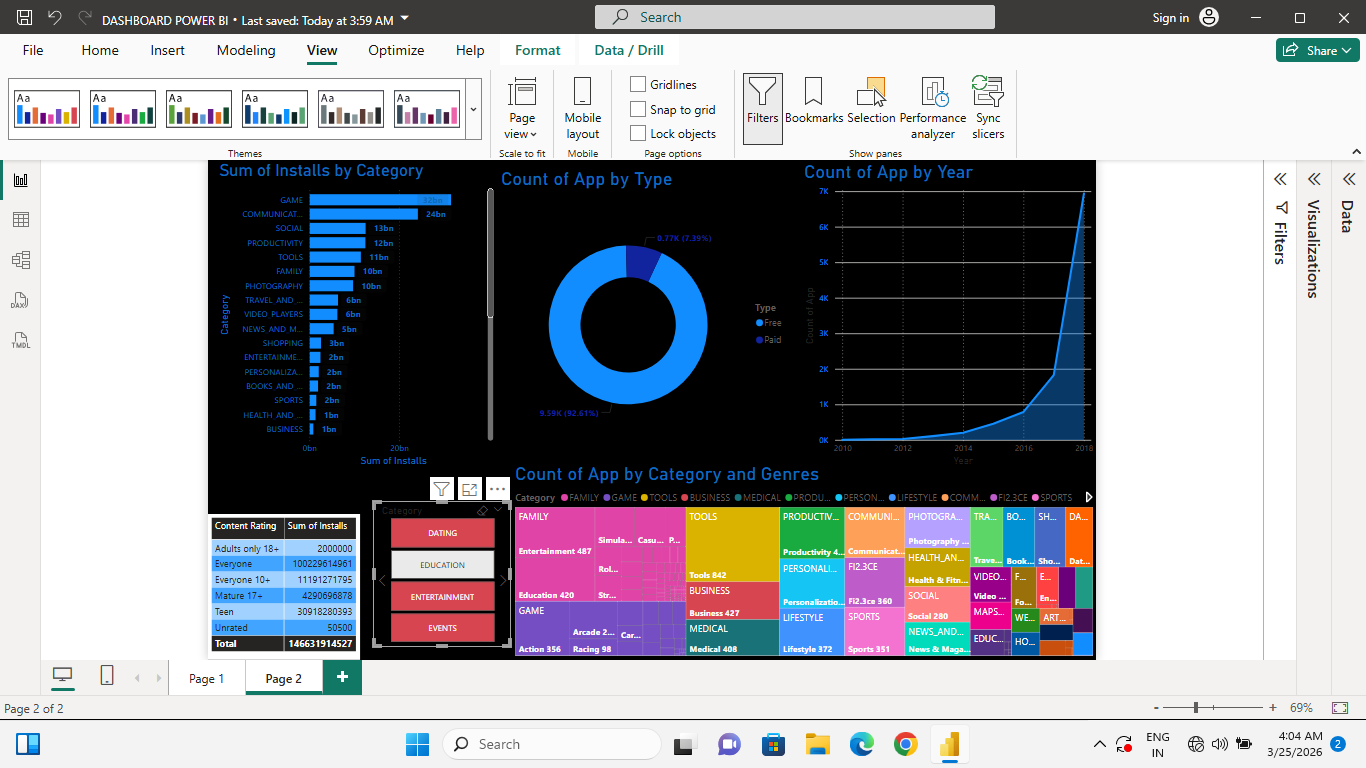

The page's visual inventory and layout, read from the dashboard file:
{"tool":"powerbi","page":{"name":"Page 2","canvas":[1280,720],"ordinal":1},"visuals":[{"type":"clusteredBarChart","fields":{"Category":["Table1.Category"],"Y":["Sum(Table1.Installs)"]},"box":[10.5,0,406.8,447.1],"z":0},{"type":"donutChart","fields":{"Category":["Table1.Type"],"Y":["CountNonNull(Table1.App)"]},"box":[416.2,10.1,427.7,424.8],"z":1000},{"type":"areaChart","fields":{"Category":["Table1.Last Updated.Variation.Date Hierarchy.Year","Table1.Last Updated.Variation.Date Hierarchy.Quarter","Table1.Last Updated.Variation.Date Hierarchy.Month","Table1.Last Updated.Variation.Date Hierarchy.Day"],"Y":["CountNonNull(Table1.App)"]},"box":[852.2,0,427.8,447.1],"z":2000},{"type":"pivotTable","fields":{"Rows":["Table1.Content Rating"],"Values":["Sum(Table1.Installs)"]},"box":[0,509.8,218.9,210.2],"z":3000},{"type":"slicer","fields":{"Values":["Table1.Category"]},"box":[237.6,491,198.7,210.2],"z":4000},{"type":"treemap","fields":{"Group":["Table1.Category"],"Details":["Table1.Genres"],"Values":["CountNonNull(Table1.App)"]},"box":[436.3,434.9,843.8,285.1],"z":5000}]}

Visuals, with their boxes on the page's 1280x720 design canvas (x1, y1, x2, y2). These are canvas units, not pixel positions in the 1366x768 screenshot, which may show the page scaled, cropped or inside an application window:
clusteredBarChart - Table1.Category x Sum(Table1.Installs): pyautogui.locateOnScreen(10, 0, 417, 447)
donutChart - Table1.Type x CountNonNull(Table1.App): pyautogui.locateOnScreen(416, 10, 844, 435)
areaChart - Table1.Last Updated.Variation.Date Hierarchy.Year x Table1.Last Updated.Variation.Date Hierarchy.Quarter: pyautogui.locateOnScreen(852, 0, 1280, 447)
pivotTable - Table1.Content Rating x Sum(Table1.Installs): pyautogui.locateOnScreen(0, 510, 219, 720)
slicer - Table1.Category: pyautogui.locateOnScreen(238, 491, 436, 701)
treemap - Table1.Category x Table1.Genres: pyautogui.locateOnScreen(436, 435, 1280, 720)
